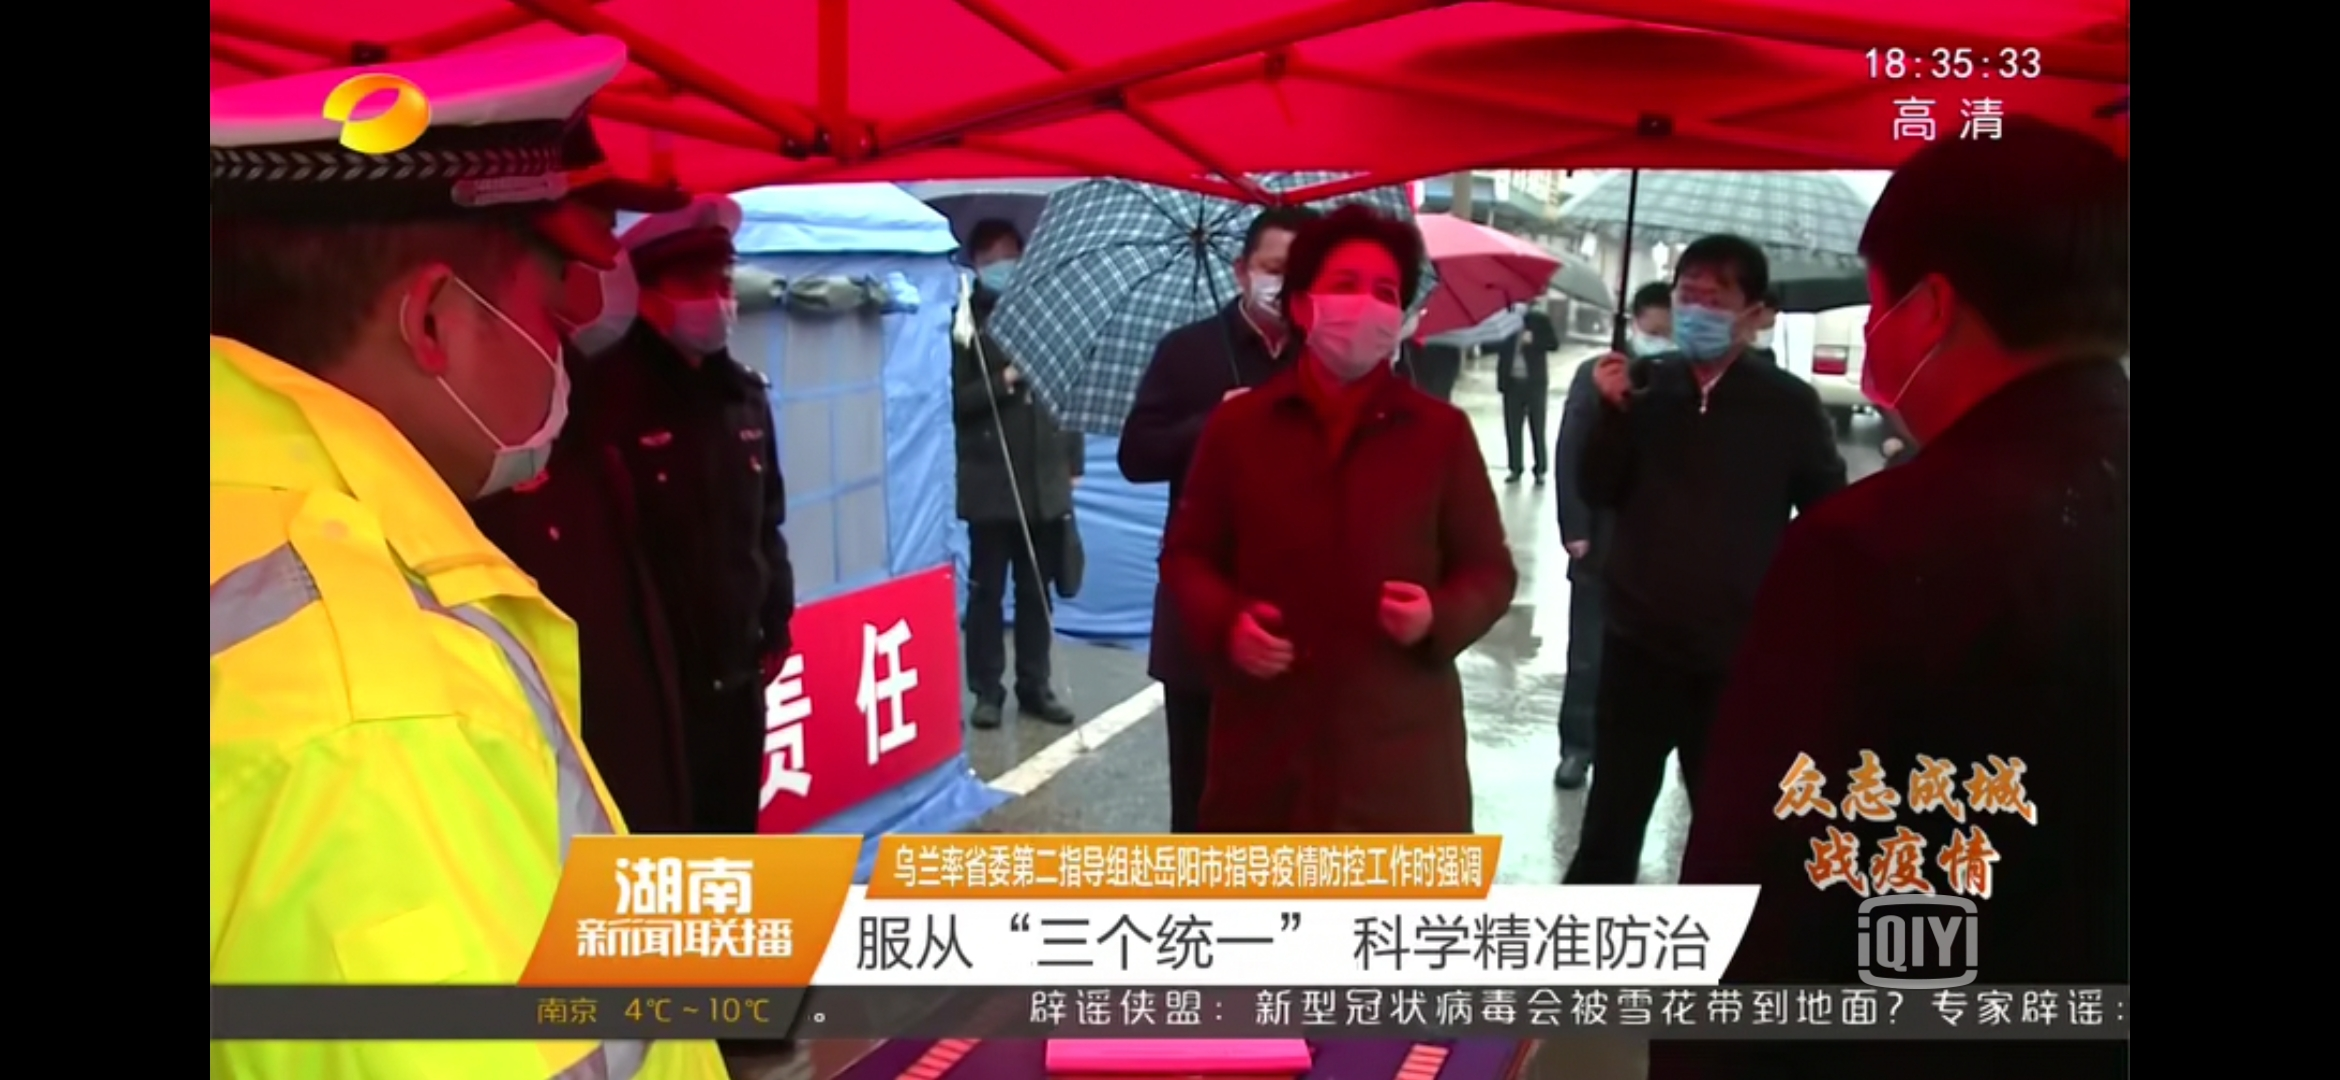correctlyWear: (404, 248, 575, 500), (1853, 245, 2047, 465), (561, 183, 645, 358), (1300, 258, 1410, 377), (645, 261, 745, 351), (1671, 271, 1759, 371), (1233, 237, 1294, 330), (1621, 295, 1676, 361), (973, 237, 1024, 298)
